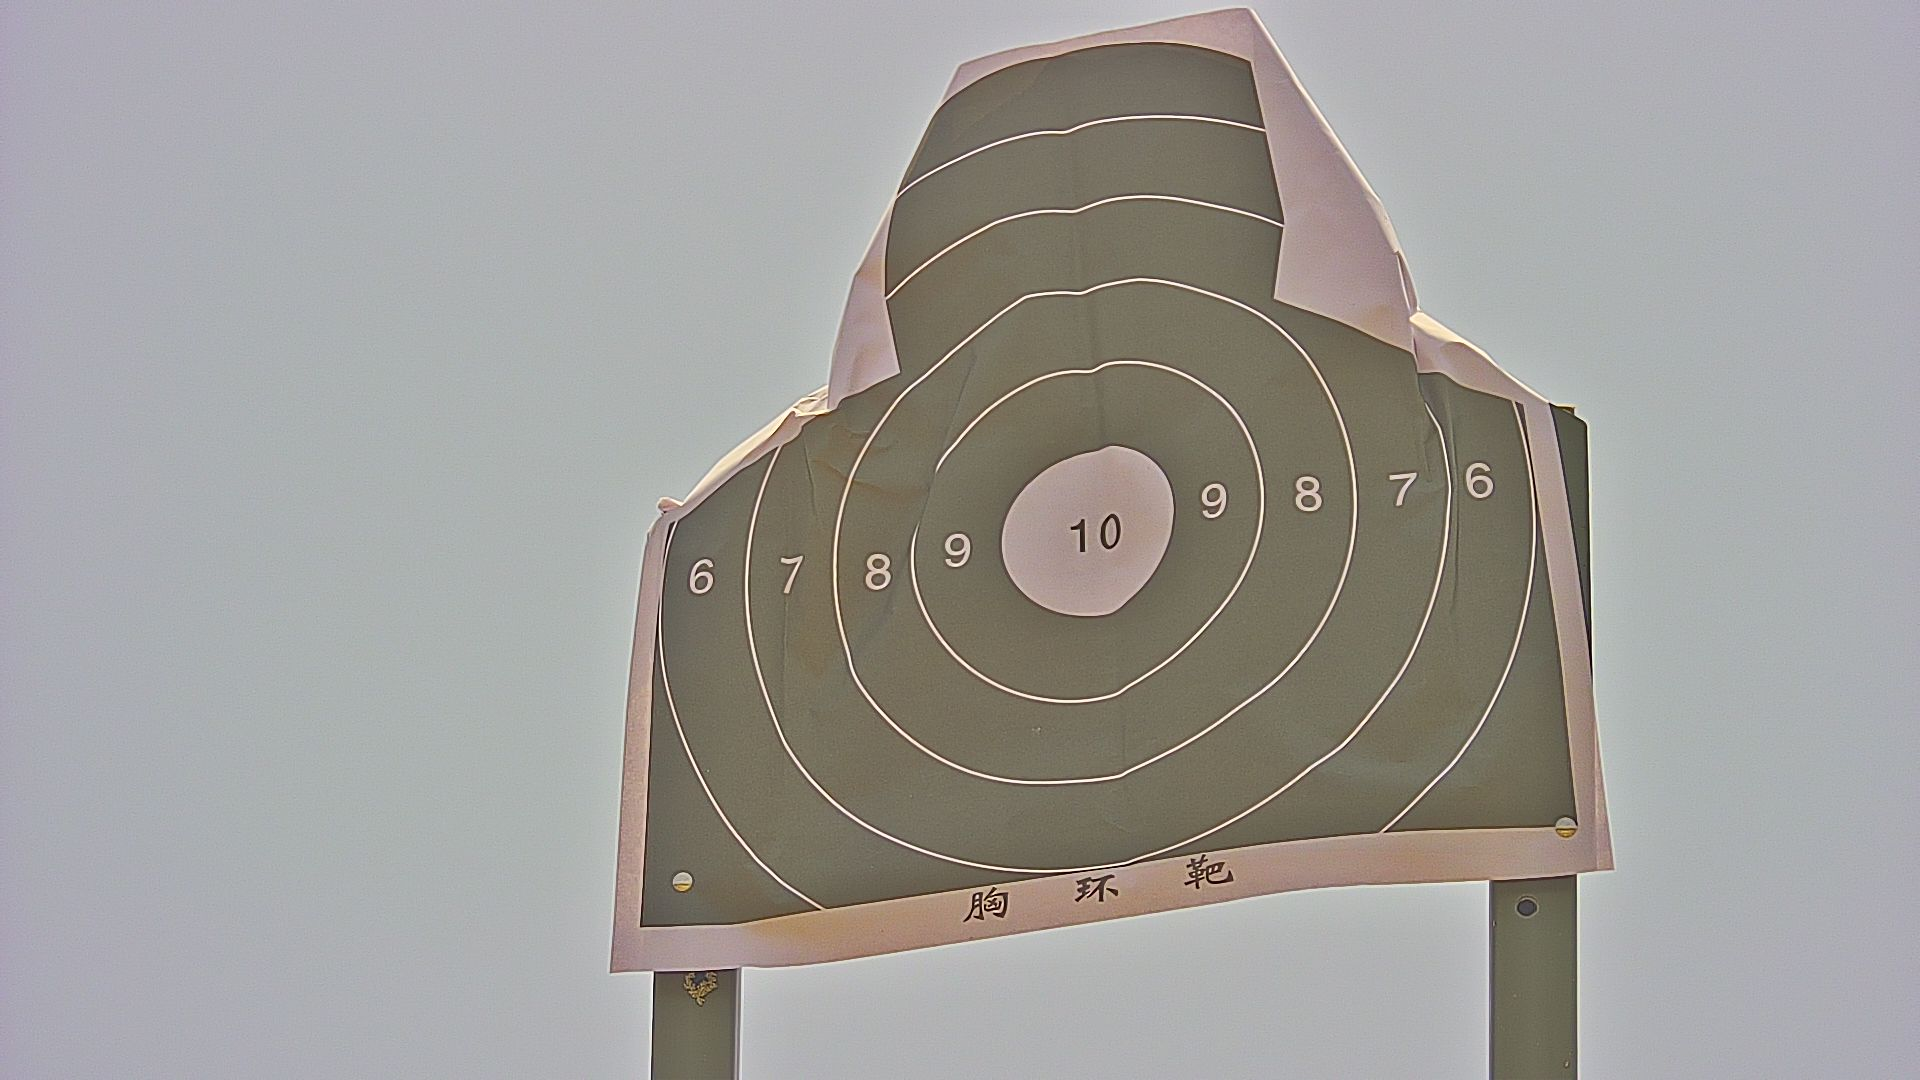kernel: (1091, 531, 1093, 539)
target: (637, 40, 1582, 934)
ten: (997, 447, 1178, 618)
